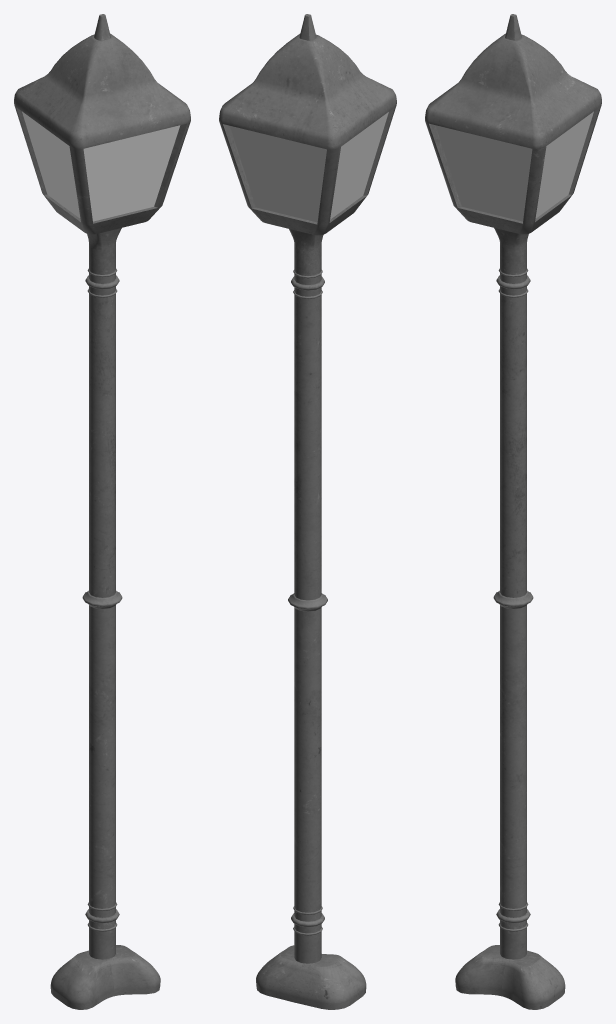
File: Street Lamp2.fbx
3 renders of one model, left to right at view 1: azimuth 30°, elevation 25°; view 2: azimuth 150°, elevation 25°; view 3: azimuth 330°, elevation 25°, orthographic.
Parts seen in each view (by area): view 1: Old Street Lamp; view 2: Old Street Lamp; view 3: Old Street Lamp.
Part boxes in pixels (<box>): Old Street Lamp: <box>14,14,190,1009</box>; Old Street Lamp: <box>219,14,396,1009</box>; Old Street Lamp: <box>425,14,601,1009</box>.
Size of the model in its own units: 43.65 by 340 by 41.77.
